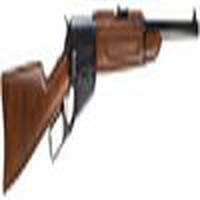gun: (1, 11, 199, 195)
